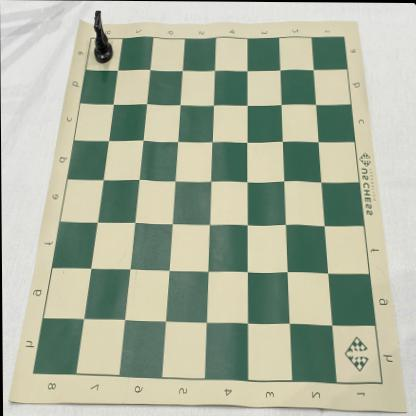black-knight: (93, 10, 113, 64)
